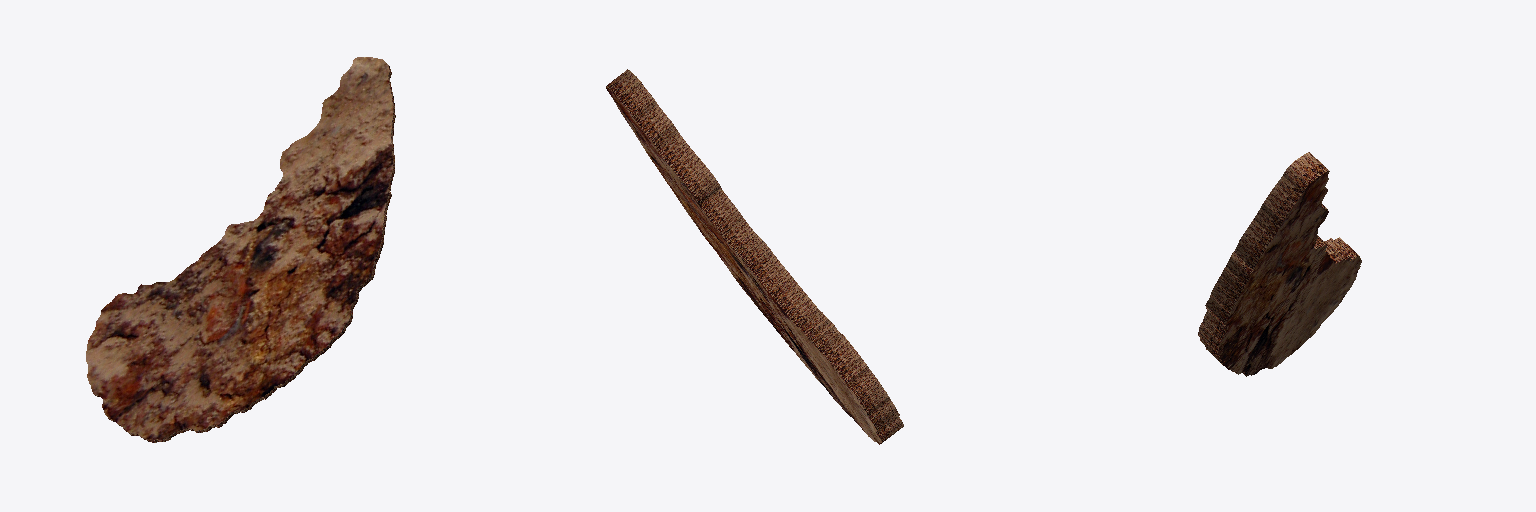
3 views of the same model, side by side, from view 1: azimuth 30°, elevation 25°; view 2: azimuth 150°, elevation 25°; view 3: azimuth 270°, elevation 25° (orthographic).
Parts seen in each view (by area): view 1: Layer_0; view 2: Layer_0; view 3: Layer_0.
Boxes of the visible parts, <box> form: Layer_0: <box>86,57,395,442</box>; Layer_0: <box>606,69,903,444</box>; Layer_0: <box>1198,152,1361,376</box>.
Size of the model in its own units: 4.11 by 4.26 by 1.97.
1 materials, 1 textured.